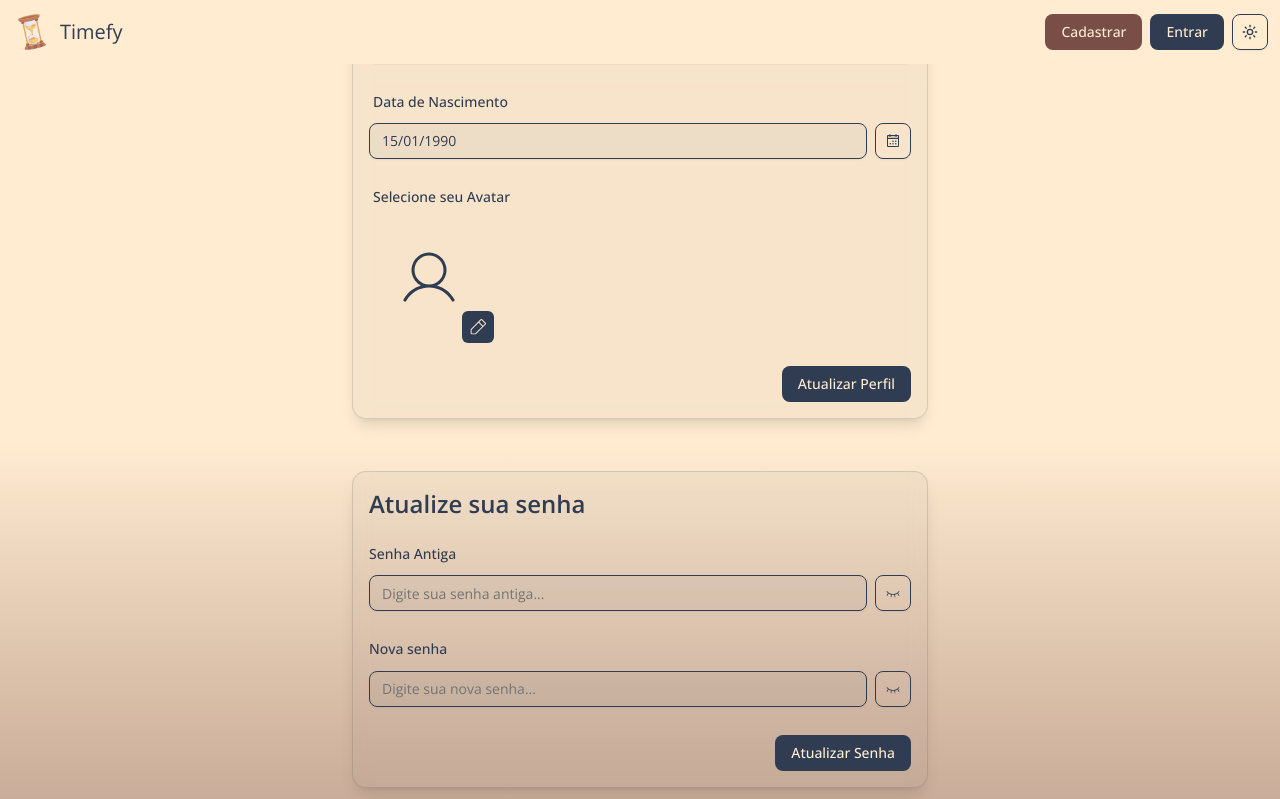
it: ProfilePage › Password Update Form Validation › should show error when old password does not contain a number
The image size is (1280, 799).
(page scrolled)
Type "Password!" into the password field labelled "Senha Antiga". click: (618, 593)
box: [369,575,867,611]
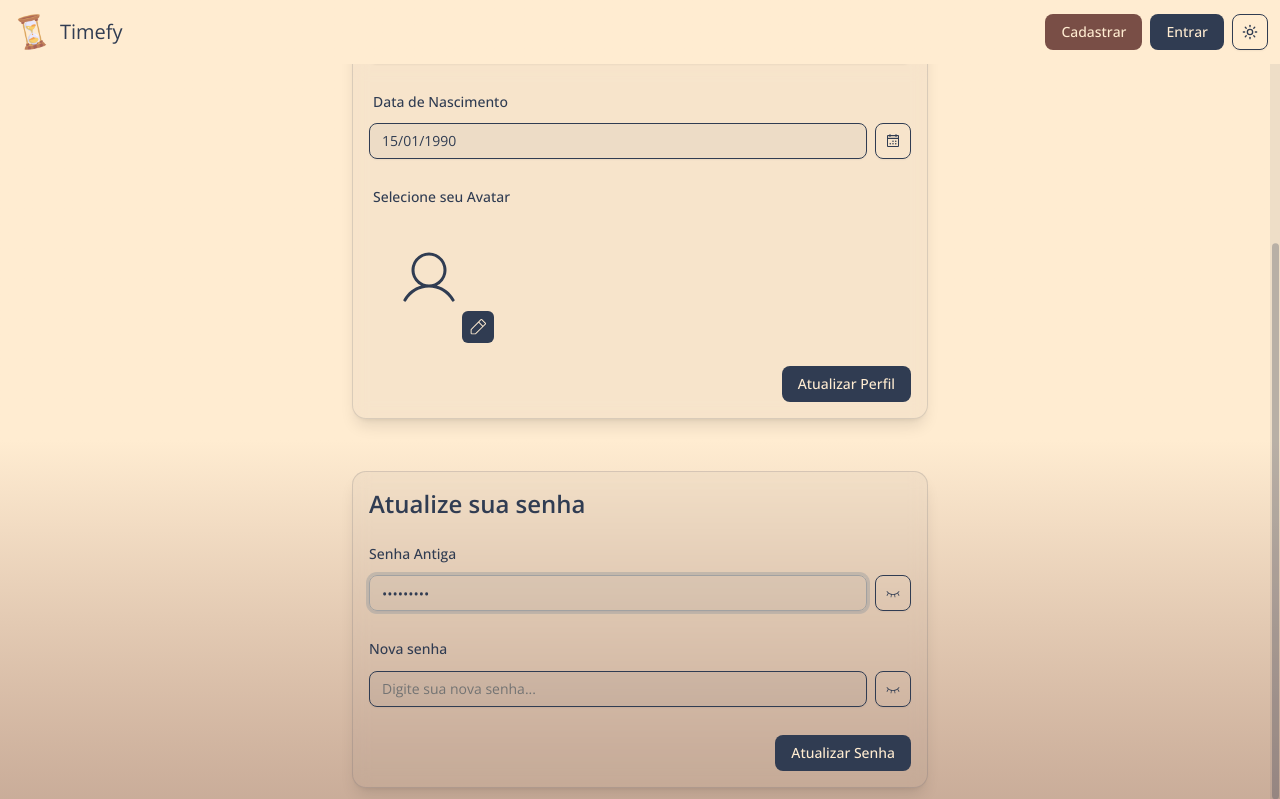
Click the button "Atualizar Senha". click: (843, 752)
box: [775,734,911,770]
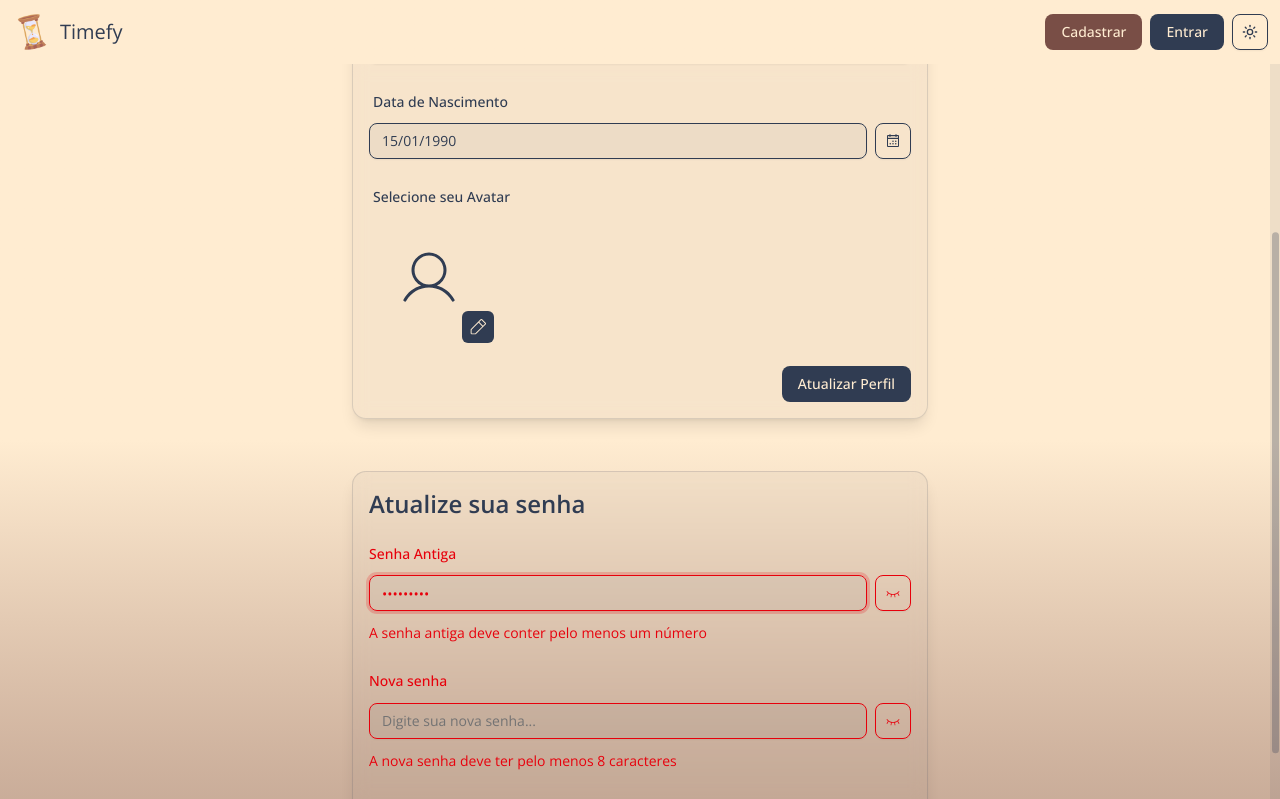
Expected: the text "A senha antiga deve conter pelo menos um número" is shown, [369,623,707,642]
